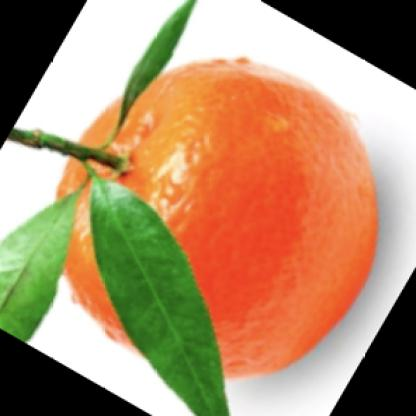fresh: (56, 56, 380, 382)
